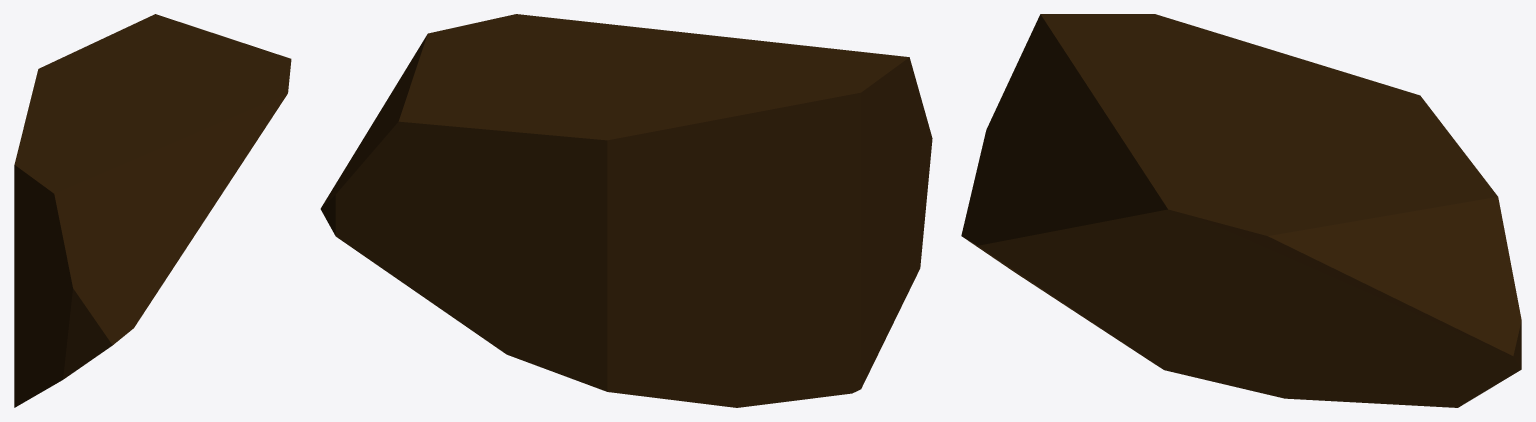
File: Debris7.glb
The picture shows the model from 3 angles, left to right: view 1: azimuth 30°, elevation 25°; view 2: azimuth 150°, elevation 25°; view 3: azimuth 270°, elevation 25°; orthographic projection. The views are drawn at different scales.
Parts seen in each view (by area): view 1: Cylinder_cell.014; view 2: Cylinder_cell.014; view 3: Cylinder_cell.014.
Boxes of the visible parts, x1,y1,x2,y2 form: Cylinder_cell.014: [14, 14, 291, 407]; Cylinder_cell.014: [320, 14, 932, 407]; Cylinder_cell.014: [961, 14, 1521, 407].
Size of the model in its own units: 1.13 by 0.8281 by 1.19.
